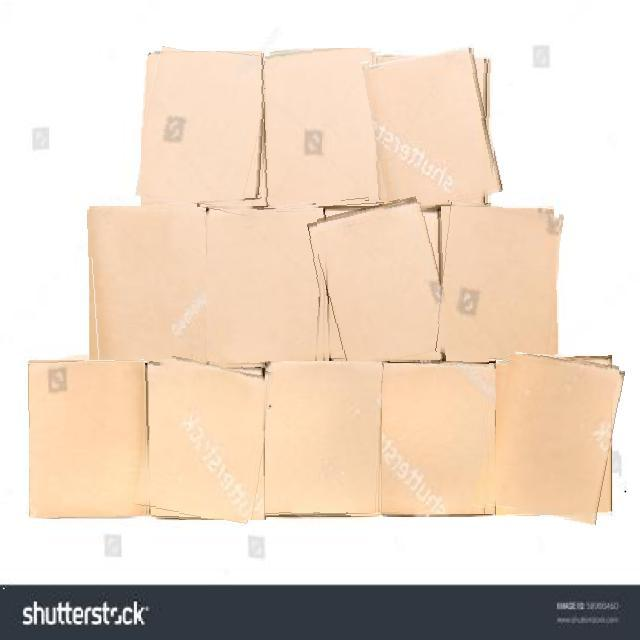BoxFace: (489, 354, 619, 521), (316, 201, 446, 364), (141, 51, 271, 211), (141, 358, 268, 520), (369, 48, 496, 209), (435, 202, 559, 364), (206, 206, 326, 363), (264, 48, 381, 209), (88, 206, 207, 363), (265, 361, 383, 517), (29, 360, 145, 518), (382, 363, 496, 514)
